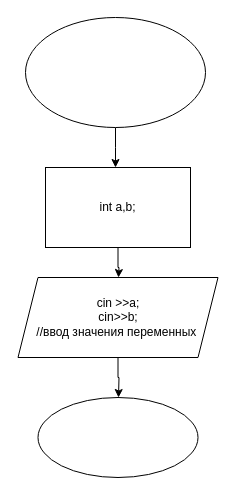
Image size: 235x495. Some labels were removed from this diagram. Each missing label, with the centre of its shape:
return a+b;: (x=117, y=437)
Начало программы: (x=115, y=72)
